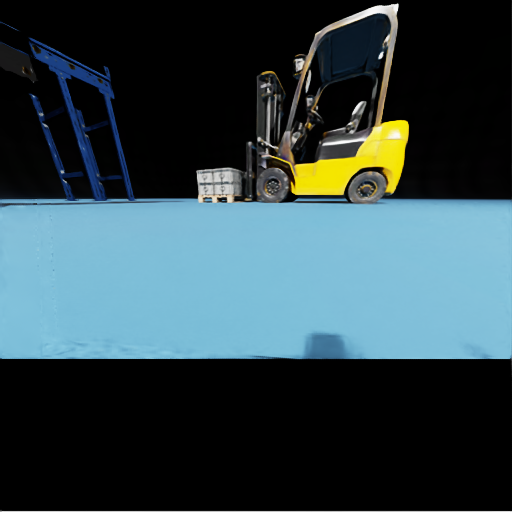transportation_area: (214, 182, 245, 194)
